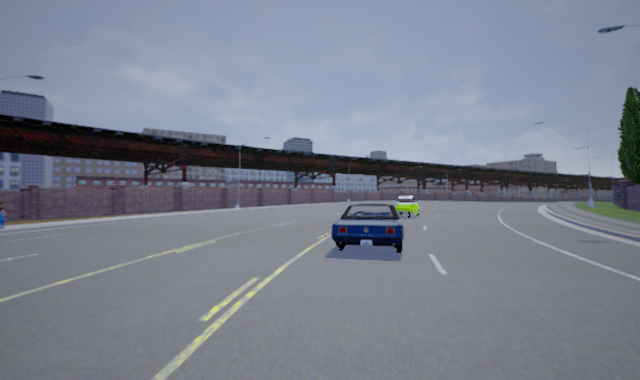pedestrian: (0, 198, 15, 230)
vehicle: (328, 200, 404, 259), (390, 195, 421, 218)
